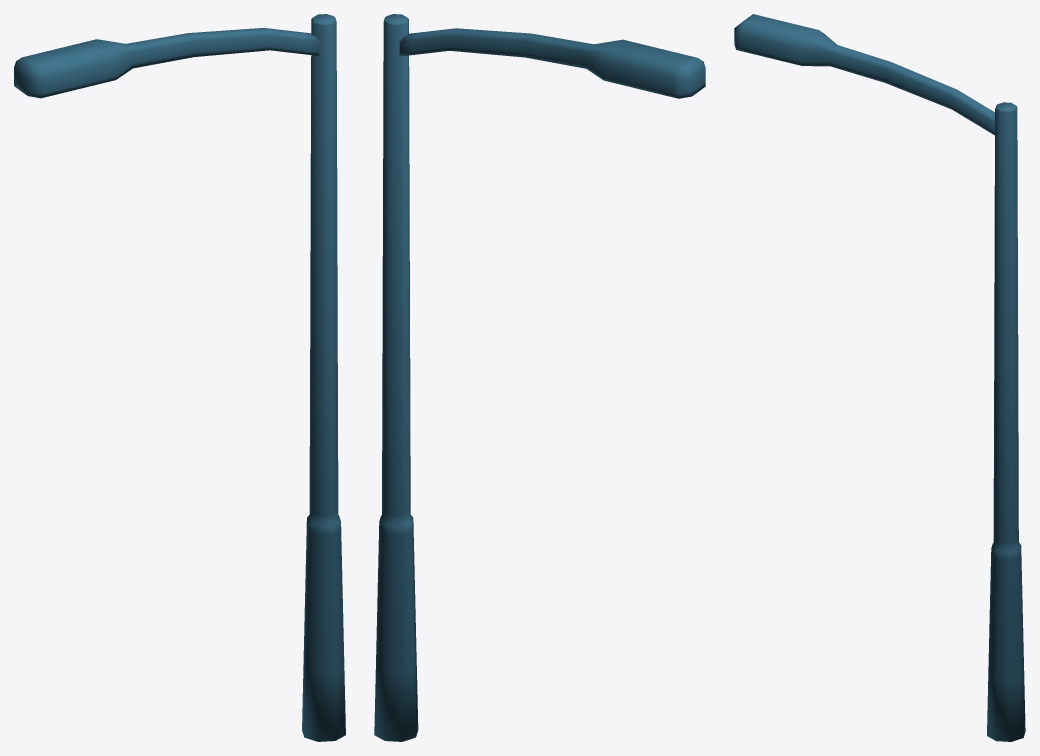
File: StreetLightNight.glb
3 views of the same model, side by side, from view 1: azimuth 30°, elevation 25°; view 2: azimuth 150°, elevation 25°; view 3: azimuth 330°, elevation 25° (orthographic). The views are drawn at different scales.
Visible parts, largest first — view 1: StreetLightNight; view 2: StreetLightNight; view 3: StreetLightNight.
Part boxes in pixels (x1=…): StreetLightNight: x1=14, y1=14, x2=345, y2=741; StreetLightNight: x1=374, y1=14, x2=705, y2=741; StreetLightNight: x1=734, y1=14, x2=1025, y2=741.
Bounding box in the file's own units: 3.08 × 6.77 × 0.4136.
